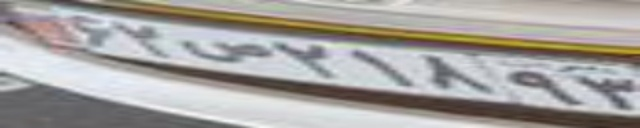1: (345, 47, 412, 88)
2: (272, 40, 336, 78), (114, 21, 164, 58)
3: (580, 75, 639, 109)
6: (67, 14, 113, 47)
8: (422, 54, 496, 95)
9: (506, 71, 579, 105)
saat: (178, 38, 268, 64)
